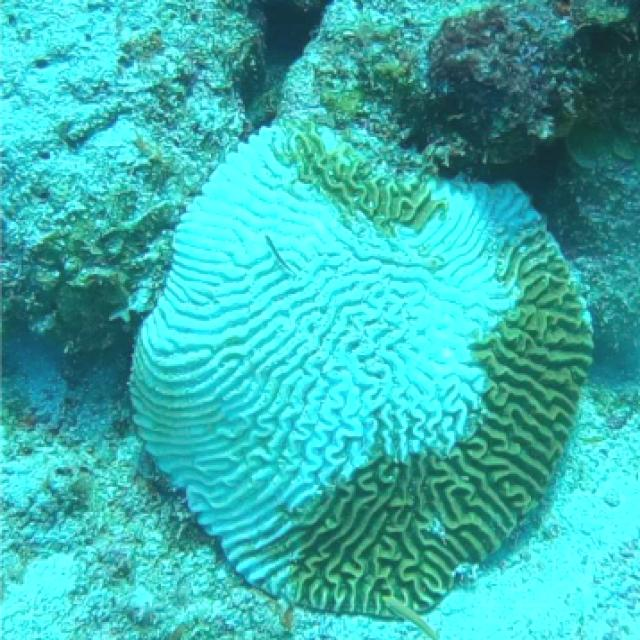Coral: (127, 106, 595, 620)
